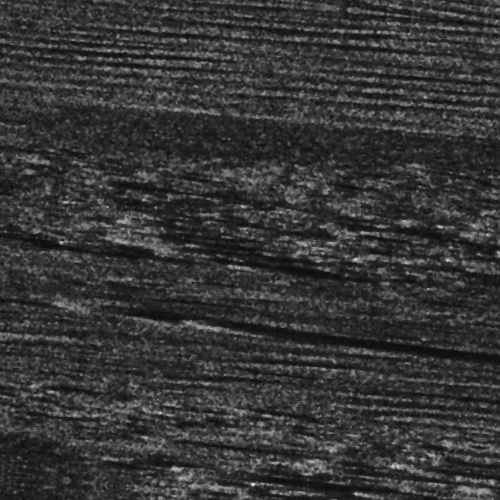object: (243, 481, 500, 500), (24, 306, 169, 335), (115, 235, 208, 268), (328, 480, 500, 495), (137, 250, 230, 271), (159, 321, 284, 332), (358, 469, 431, 480), (439, 230, 500, 239), (251, 497, 408, 500), (92, 190, 133, 201), (299, 451, 382, 456), (113, 493, 166, 500), (0, 260, 28, 273), (140, 442, 193, 445), (406, 443, 459, 446), (227, 264, 258, 267)
shadow: (96, 306, 500, 335), (162, 235, 389, 268), (183, 250, 413, 271), (221, 321, 500, 332), (0, 260, 162, 273), (400, 481, 500, 500), (113, 190, 262, 201), (417, 480, 500, 495), (395, 469, 500, 480), (0, 250, 86, 261), (140, 493, 260, 500), (340, 451, 468, 456), (166, 442, 323, 445), (329, 497, 417, 500), (433, 443, 500, 446), (243, 264, 282, 267)
